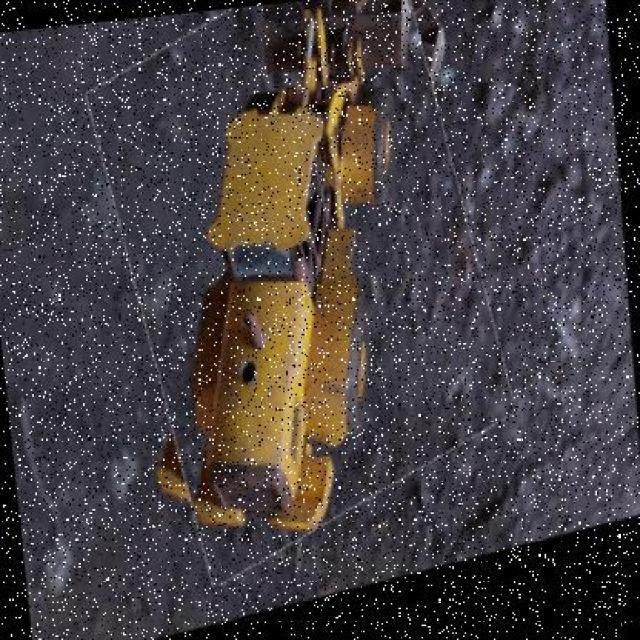buldozerpayloadergrader: (143, 0, 463, 549)
